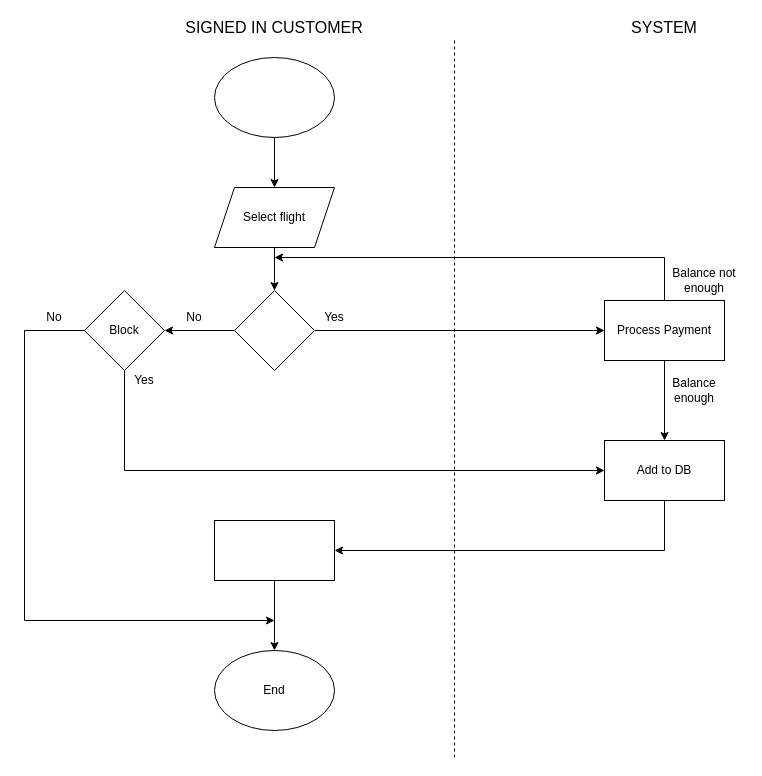
The diagram is 762 pixels wide and 776 high, and some of its shapes have lost their labels. Each missing label, with the centre of its shape:
Check out: the point at 274,330
Display confirm code: the point at 274,550
Start: the point at 274,97
